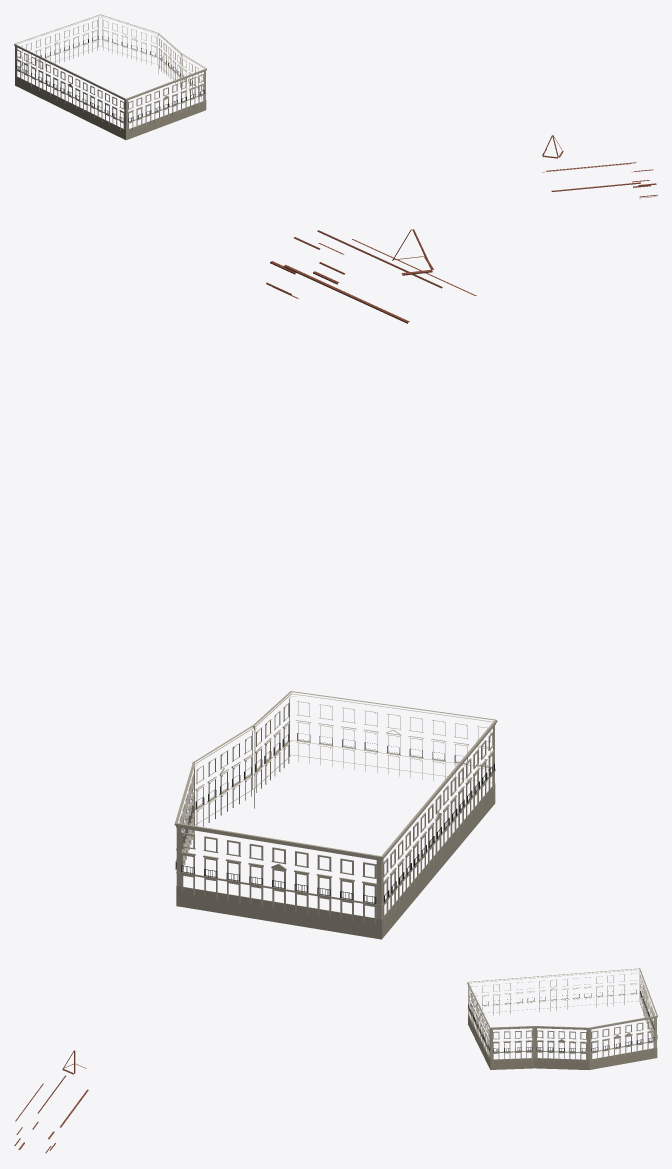
3 views of the same model, one above another, from view 1: azimuth 30°, elevation 25°; view 2: azimuth 150°, elevation 25°; view 3: azimuth 270°, elevation 25° (orthographic). The views are drawn at different scales.
Parts seen in each view (by area): view 1: detail; view 2: detail; view 3: detail.
Part boxes in pixels (left/top/right/bottom): detail: left=14, top=14, right=657, bottom=198; detail: left=174, top=229, right=497, bottom=939; detail: left=14, top=968, right=657, bottom=1153.
Size of the model in its own units: 98.91 by 24.27 by 156.
